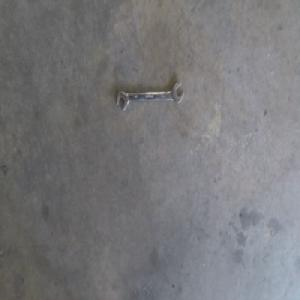Wrench: (116, 95, 183, 123)
